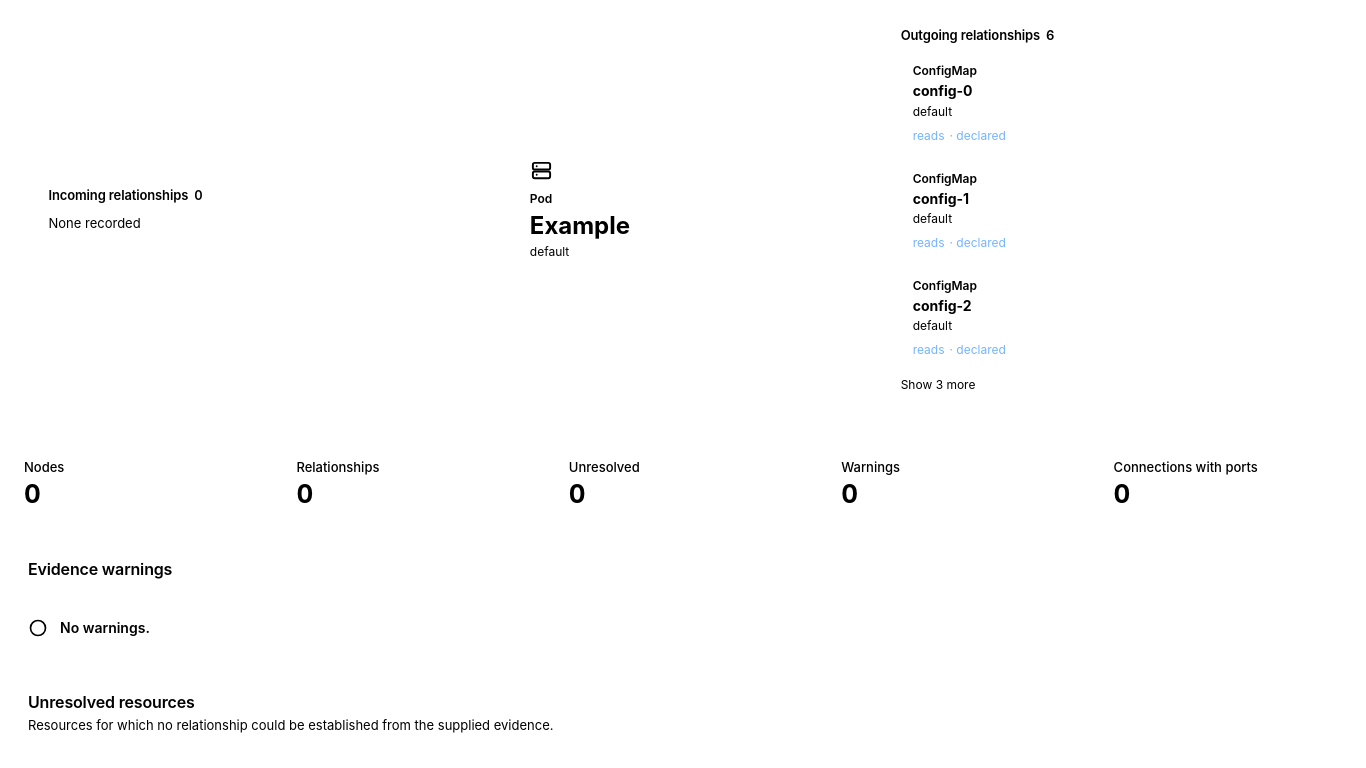
Scenario: native architecture › keeps a busy neighborhood readable and exposes all remaining relationships on request
(page scrolled)
expect the number of buttons named "Relationship reads" is 3: met, box [913,127,1006,145]; [913,234,1006,252]; [913,341,1006,359]
Click the button "Show 3 more". click: {"x": 938, "y": 385}
box: [901,376,976,394]
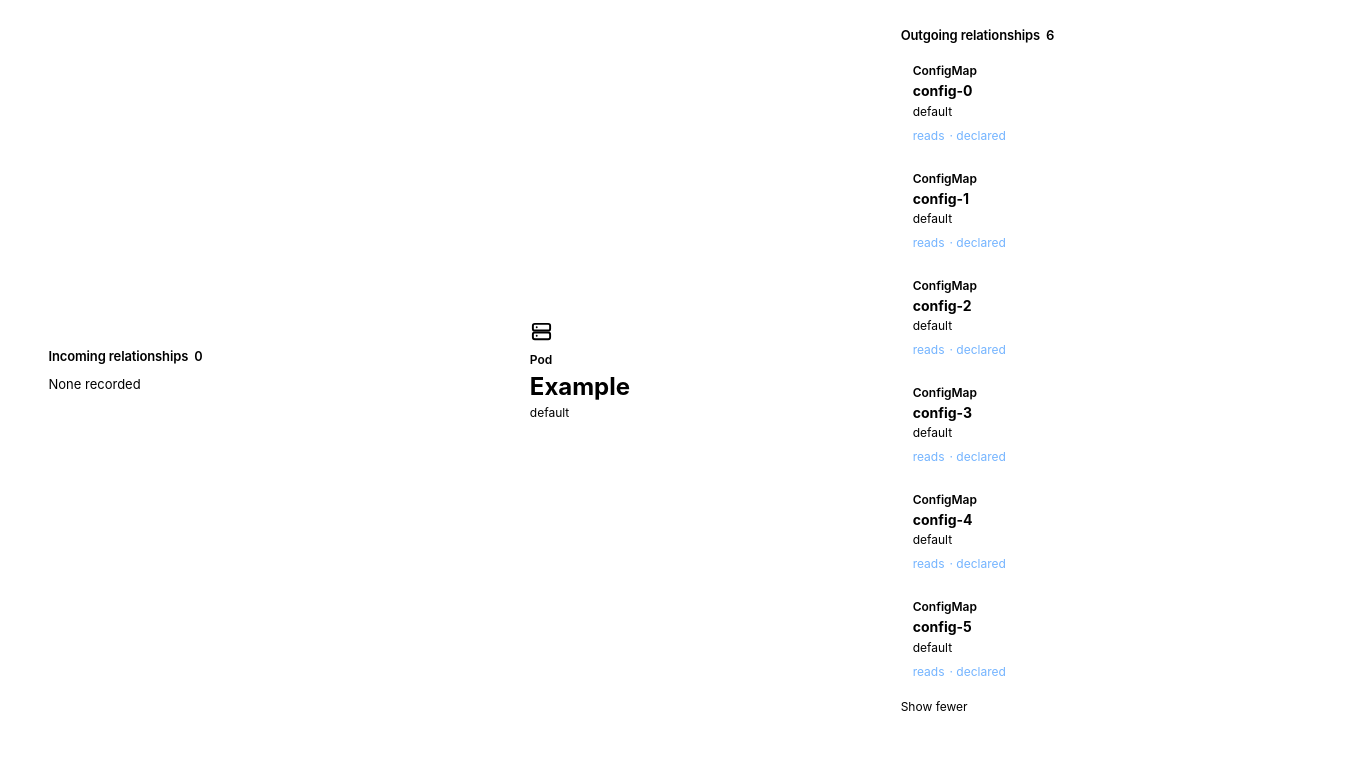
expect the number of buttons named "Relationship reads" is 6: met, box [913,127,1006,145]; [913,234,1006,252]; [913,341,1006,359]; [913,448,1006,466]; [913,555,1006,573]; [913,662,1006,680]
Click the button "Show fewer". click: {"x": 934, "y": 706}
box: [901,698,968,716]
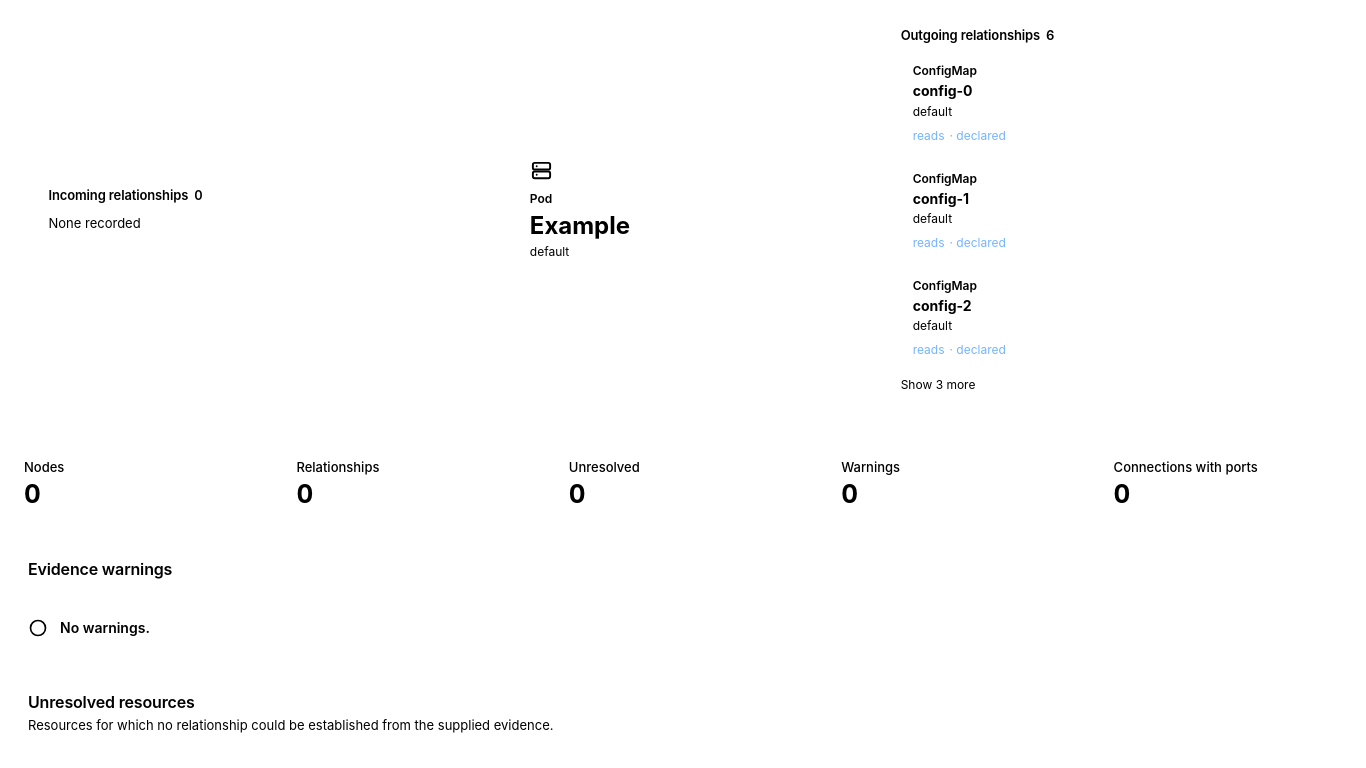
expect the number of buttons named "Relationship reads" is 3: met, box [913,127,1006,145]; [913,234,1006,252]; [913,341,1006,359]
